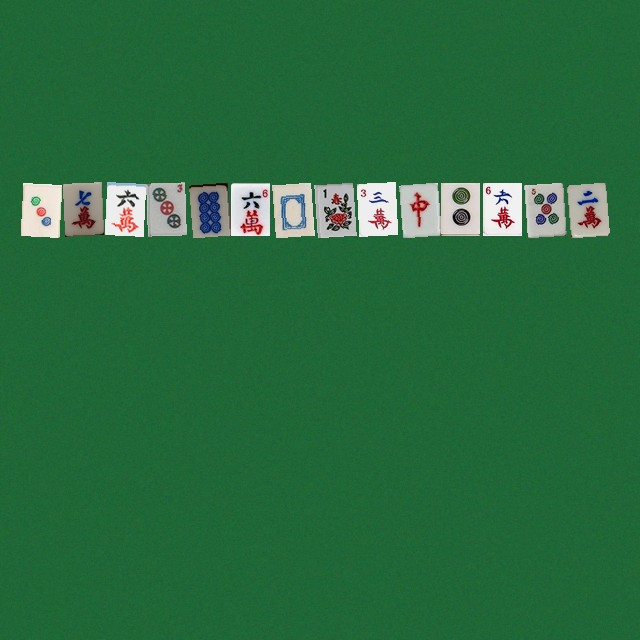tile: (20, 182, 59, 235), (62, 182, 101, 235), (104, 182, 143, 235), (146, 182, 185, 235), (188, 182, 227, 235), (230, 182, 269, 235), (272, 182, 311, 235), (314, 182, 353, 235), (356, 182, 395, 235), (398, 182, 437, 235), (440, 182, 479, 235), (482, 182, 521, 235), (524, 182, 563, 235), (566, 182, 605, 235)
